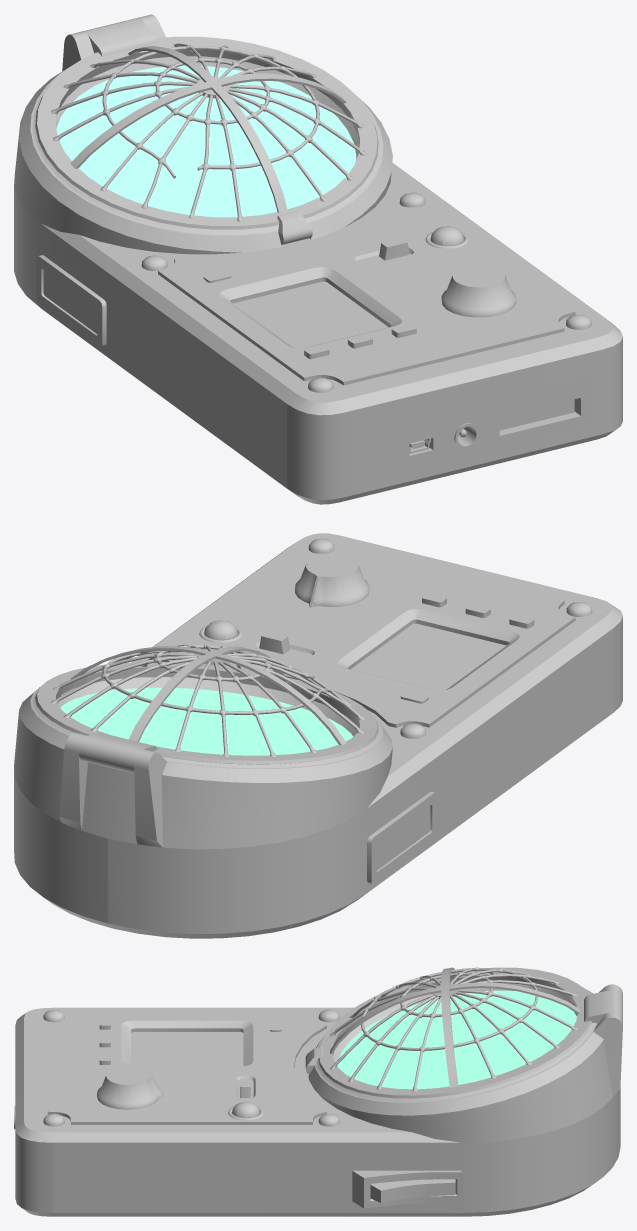
The picture shows the model from 3 angles, top to bottom: view 1: azimuth 30°, elevation 25°; view 2: azimuth 150°, elevation 25°; view 3: azimuth 270°, elevation 25°; orthographic projection. The views are drawn at different scales.
Parts seen in each view (by area): view 1: body, antenna, screen, knob, clasp, lamp; view 2: body, antenna, screen, knob, lamp; view 3: body, antenna, screen, knob, lamp.
Part boxes in pixels (box(x1,y1,x2,y2)): body: box(14, 14, 622, 504); antenna: box(35, 17, 378, 229); screen: box(56, 65, 356, 217); knob: box(441, 265, 516, 317); clasp: box(277, 211, 312, 244); lamp: box(425, 226, 468, 248); body: box(14, 533, 622, 938); antenna: box(35, 644, 378, 773); screen: box(60, 687, 352, 755); knob: box(295, 554, 369, 607); lamp: box(199, 620, 242, 642); body: box(14, 983, 622, 1216); antenna: box(318, 967, 622, 1098); screen: box(337, 990, 576, 1089); knob: box(97, 1066, 164, 1109); lamp: box(228, 1101, 263, 1120).
Bounding box in the file's own units: 8 × 4.4 × 14.24.
